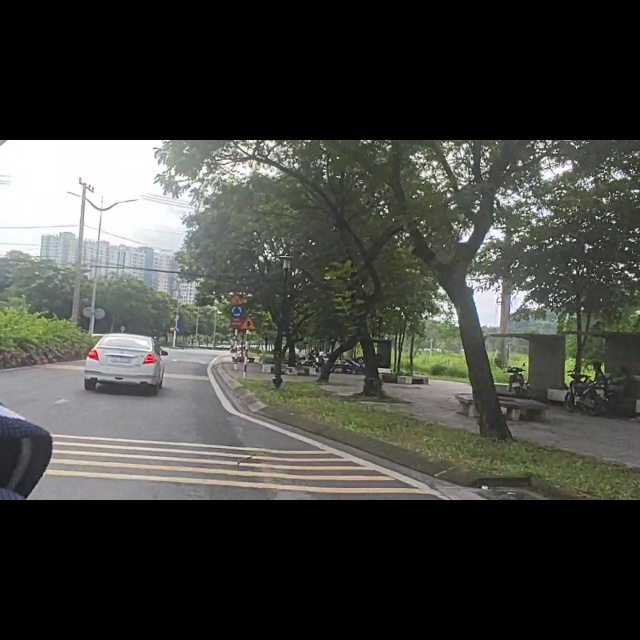bien_hieu_lenh: (241, 314, 257, 338), (230, 293, 245, 315), (230, 274, 243, 293), (174, 331, 181, 343), (168, 331, 174, 340)
